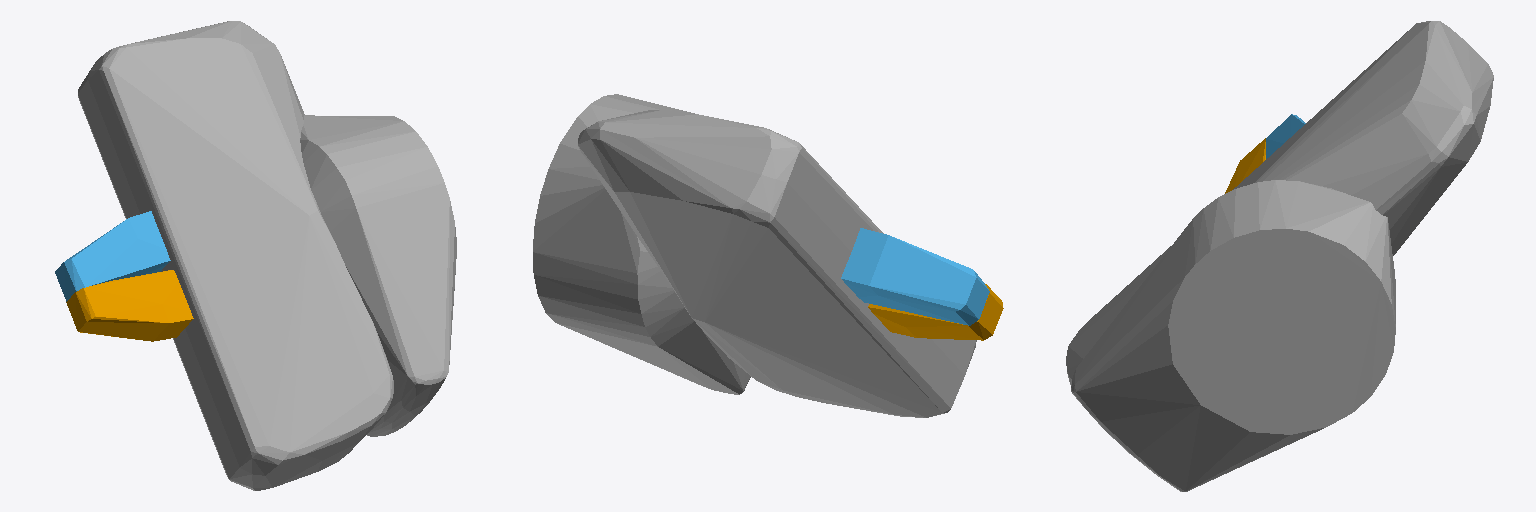
The robot description file, URDF, robot "panda_hand":
<?xml version='1.0' encoding='utf-8'?>
<robot name="panda_hand">

    <link name="link0">
      <inertial>
        <origin xyz="0 0 0.05" rpy="0 0 0" />
        <mass value="4" />
        <inertia ixx="0.4" iyy="0.4" izz="0.4" ixy="0" ixz="0" iyz="0" />
      </inertial>
      <visual>
        <geometry>
          <mesh filename="../../../Model/meshes/visual/link0.obj"/>
        </geometry>
      </visual>
<!--       <collision>
        <geometry>
          <mesh filename="../../../Model/meshes/collision/link0.obj"/>
        </geometry>
      </collision> -->
    </link>
    <link name="link1">
      <inertial>
        <origin xyz="0 0 -0.07" rpy="0 -0 0" />
        <mass value="3" />
        <inertia ixx="0.3" iyy="0.3" izz="0.3" ixy="0" ixz="0" iyz="0" />
      </inertial>
      <visual>
        <geometry>
          <mesh filename="../../../Model/meshes/visual/link1.obj"/>
        </geometry>
      </visual>
      <!-- <collision>
        <geometry>
          <mesh filename="../../../Model/meshes/collision/link1.obj"/>
        </geometry>
      </collision> -->
    </link>
    <link name="link2">
      <inertial>
        <origin xyz="0 -0.1 0" rpy="0 -0 0" />
        <mass value="3" />
        <inertia ixx="0.3" iyy="0.3" izz="0.3" ixy="0" ixz="0" iyz="0" />
      </inertial>
      <visual>
        <geometry>
          <mesh filename="../../../Model/meshes/visual/link2.obj"/>
        </geometry>
      </visual>
      <!-- <collision>
        <geometry>
          <mesh filename="../../../Model/meshes/collision/link2.obj"/>
        </geometry>
      </collision> -->
    </link>
    <link name="link3">
      <inertial>
        <origin xyz="0.04 0 -0.05" rpy="0 -0 0" />
        <mass value="2" />
        <inertia ixx="0.2" iyy="0.2" izz="0.2" ixy="0" ixz="0" iyz="0" />
      </inertial>
      <visual>
        <geometry>
          <mesh filename="../../../Model/meshes/visual/link3.obj"/>
        </geometry>
      </visual>
      <!-- <collision>
        <geometry>
          <mesh filename="../../../Model/meshes/collision/link3.obj"/>
        </geometry>
      </collision> -->
    </link>
    <link name="link4">
      <inertial>
        <origin xyz="-0.04 0.05 0" rpy="0 -0 0" />
        <mass value="2" />
        <inertia ixx="0.2" iyy="0.2" izz="0.2" ixy="0" ixz="0" iyz="0" />
      </inertial>
      <visual>
        <geometry>
          <mesh filename="../../../Model/meshes/visual/link4.obj"/>
        </geometry>
      </visual>
<!--       <collision>
        <geometry>
          <mesh filename="../../../Model/meshes/collision/link4.obj"/>
        </geometry>
      </collision> -->
    </link>
    <link name="link5">
      <inertial>
        <origin xyz="0 0 -0.15" rpy="0 -0 0" />
        <mass value="2" />
        <inertia ixx="0.2" iyy="0.2" izz="0.2" ixy="0" ixz="0" iyz="0" />
      </inertial>
      <visual>
        <geometry>
          <mesh filename="../../../Model/meshes/visual/link5.obj"/>
        </geometry>
      </visual>
<!--       <collision>
        <geometry>
          <mesh filename="../../../Model/meshes/collision/link5.obj"/>
        </geometry>
      </collision> -->
    </link>
    <link name="link6">
      <inertial>
        <origin xyz="0.06 0 0" rpy="0 -0 0" />
        <mass value="1.5" />
        <inertia ixx="0.1" iyy="0.1" izz="0.1" ixy="0" ixz="0" iyz="0" />
      </inertial>
      <visual>
        <geometry>
          <mesh filename="../../../Model/meshes/visual/link6.obj"/>
        </geometry>
      </visual>
      <!-- <collision>
        <geometry>
          <mesh filename="../../../Model/meshes/collision/link6.obj"/>
        </geometry>
      </collision> -->
    </link>
    <link name="link7">
      <inertial>
        <origin xyz="0 0 0.17" rpy="0 -0 0" />
        <mass value="1.8" />
        <inertia ixx="0.09" iyy="0.05" izz="0.07" ixy="0" ixz="0" iyz="0" />
      </inertial>
      <visual>
        <geometry>
          <mesh filename="../../../Model/meshes/visual/link7.obj"/>
        </geometry>
      </visual>
      <!-- <collision>
        <geometry>
          <mesh filename="../../../Model/meshes/collision/link7.obj"/>
        </geometry>
      </collision> -->
      <visual>
        <origin xyz="0 0 0.107" rpy="0 0 -0.78539816339" />
        <geometry>
          <mesh filename="../../../Model/meshes/visual/hand.obj"/>
        </geometry>
      </visual>
<!--       <collision>
        <origin xyz="0 0 0.107" rpy="0 0 -0.78539816339" />
        <geometry>
          <mesh filename="../../../Model/meshes/collision/hand.obj"/>
        </geometry>
      </collision> -->
    </link>
    <link name="leftfinger">
      <inertial>
        <origin xyz="0 0 0.05" rpy="0 -0 0" />
        <mass value="0.1" />
        <inertia ixx="0.01" iyy="0.01" izz="0.005" ixy="0" ixz="0" iyz="0" />
      </inertial>
      <visual>
        <geometry>
          <mesh filename="../../../Model/meshes/visual/finger.obj"/>
        </geometry>
      </visual>
<!--       <collision>
        <geometry>
          <mesh filename="../../../Model/meshes/collision/finger.obj"/>
        </geometry>
      </collision> -->
    </link>
    <link name="rightfinger">
      <inertial>
        <origin xyz="0 0 0.05" rpy="0 -0 0" />
        <mass value="0.1" />
        <inertia ixx="0.01" iyy="0.01" izz="0.005" ixy="0" ixz="0" iyz="0" />
      </inertial>
      <visual>
        <origin xyz="0 0 0" rpy="0 0 3.14159265359" />
        <geometry>
          <mesh filename="../../../Model/meshes/visual/finger.obj"/>
        </geometry>
      </visual>
<!--       <collision>
        <origin xyz="0 0 0" rpy="0 0 3.14159265359" />
        <geometry>
          <mesh filename="../../../Model/meshes/collision/finger.obj"/>
        </geometry>
      </collision> -->
    </link>
    <joint name="joint1" type="revolute">
      <safety_controller k_position="100.0" k_velocity="40.0" soft_lower_limit="-2.8973" soft_upper_limit="2.8973"/>
      <origin rpy="0 0 0" xyz="0 0 0.333"/>
      <parent link="link0"/>
      <child link="link1"/>
      <axis xyz="0 0 1"/>
      <limit effort="87" lower="-2.8973" upper="2.8973" velocity="2.1750"/>
    </joint>
    <joint name="joint2" type="revolute">
      <safety_controller k_position="100.0" k_velocity="40.0" soft_lower_limit="-1.7628" soft_upper_limit="1.7628"/>
      <origin rpy="-1.57079632679 0 0" xyz="0 0 0"/>
      <parent link="link1"/>
      <child link="link2"/>
      <axis xyz="0 0 1"/>
      <calibration falling="15.0" />
      <limit effort="87" lower="-1.7628" upper="1.7628" velocity="2.1750"/>
    </joint>
    <joint name="joint3" type="revolute">
      <safety_controller k_position="100.0" k_velocity="40.0" soft_lower_limit="-2.8973" soft_upper_limit="2.8973"/>
      <origin rpy="1.57079632679 0 0" xyz="0 -0.316 0"/>
      <parent link="link2"/>
      <child link="link3"/>
      <axis xyz="0 0 1"/>
      <limit effort="87" lower="-2.8973" upper="2.8973" velocity="2.1750"/>
    </joint>
    <joint name="joint4" type="revolute">
      <safety_controller k_position="100.0" k_velocity="40.0" soft_lower_limit="-3.0718" soft_upper_limit="-0.0698"/>
      <origin rpy="1.57079632679 0 0" xyz="0.0825 0 0"/>
      <parent link="link3"/>
      <child link="link4"/>
      <axis xyz="0 0 1"/>
      <calibration falling="-95.0" />
      <limit effort="87" lower="-3.0718" upper="-0.0698" velocity="2.1750"/>
    </joint>
    <joint name="joint5" type="revolute">
      <safety_controller k_position="100.0" k_velocity="40.0" soft_lower_limit="-2.8973" soft_upper_limit="2.8973"/>
      <origin rpy="-1.57079632679 0 0" xyz="-0.0825 0.384 0"/>
      <parent link="link4"/>
      <child link="link5"/>
      <axis xyz="0 0 1"/>
      <limit effort="12" lower="-2.8973" upper="2.8973" velocity="2.6100"/>
    </joint>
    <joint name="joint6" type="revolute">
      <safety_controller k_position="100.0" k_velocity="40.0" soft_lower_limit="-0.0175" soft_upper_limit="3.7525"/>
      <origin rpy="1.57079632679 0 0" xyz="0 0 0"/>
      <parent link="link5"/>
      <child link="link6"/>
      <axis xyz="0 0 1"/>
      <calibration falling="125.0" />
      <limit effort="12" lower="-0.0175" upper="3.7525" velocity="2.6100"/>
    </joint>
    <joint name="joint7" type="revolute">
      <safety_controller k_position="100.0" k_velocity="40.0" soft_lower_limit="-2.8973" soft_upper_limit="2.8973"/>
      <origin rpy="1.57079632679 0 0" xyz="0.088 0 0"/>
      <parent link="link6"/>
      <child link="link7"/>
      <axis xyz="0 0 1"/>
      <limit effort="12" lower="-2.8973" upper="2.8973" velocity="2.6100"/>
    </joint>
    <joint name="finger_joint1" type="prismatic">
      <parent link="link7"/>
      <child link="leftfinger"/>
      <origin xyz="0 0 0.1654" rpy="0 0 -0.78539816339"/>
      <axis xyz="0 1 0"/>
      <calibration rising="0.02" />
      <limit effort="20" lower="0.0" upper="0.04" velocity="0.2"/>
    </joint>
    <joint name="finger_joint2" type="prismatic">
      <parent link="link7"/>
      <child link="rightfinger"/>
      <origin xyz="0 0 0.1654" rpy="0 0 -0.78539816339"/>
      <axis xyz="0 1 0"/>
      <calibration rising="-0.02" />
      <limit effort="20" lower="0.0" upper="0.04" velocity="0.2"/>
      <!-- <mimic joint="finger_joint1" /> -->
    </joint>
</robot>

--- Facts derived from the render (not from the file) ---
The picture shows the robot from 3 angles, left to right: view 1: azimuth 30°, elevation 25°; view 2: azimuth 150°, elevation 25°; view 3: azimuth 270°, elevation 25°; orthographic projection.
Model panda_hand with 10 links and 9 joints (7 revolute, 2 prismatic), rooted at link0, posed all joints at 0 but 1 set to mid-range because 0 is outside their limits (joint4 = -1.57).
Links seen in each view (by area): view 1: link7, leftfinger, rightfinger; view 2: link7, rightfinger, leftfinger; view 3: link7, leftfinger, rightfinger.
Link boxes in pixels (left/top/right/bottom): link7: left=78, top=21, right=456, bottom=490; leftfinger: left=66, top=270, right=193, bottom=341; rightfinger: left=55, top=211, right=170, bottom=301; link7: left=533, top=94, right=976, bottom=417; rightfinger: left=841, top=228, right=989, bottom=325; leftfinger: left=868, top=284, right=1003, bottom=340; link7: left=1066, top=21, right=1493, bottom=491; leftfinger: left=1225, top=138, right=1265, bottom=193; rightfinger: left=1266, top=114, right=1305, bottom=158.
Bounding box of the posed robot: 0.1673 × 0.1651 × 0.165 m (x, y, z).
4 mesh visuals loaded from 10 distinct referenced files (3 OBJ); not drawn: 7 (reference not matched to a file when rendering).